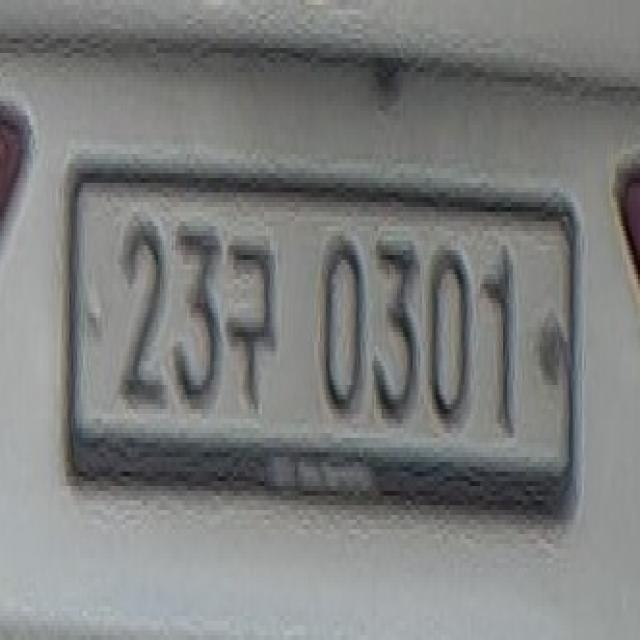0: (425, 232, 479, 442), (317, 227, 369, 435)
1: (481, 237, 534, 456)
2: (115, 208, 173, 419)
3: (173, 208, 229, 423), (371, 222, 421, 436)
gu: (224, 220, 291, 422)
license_plate: (76, 185, 570, 472)
